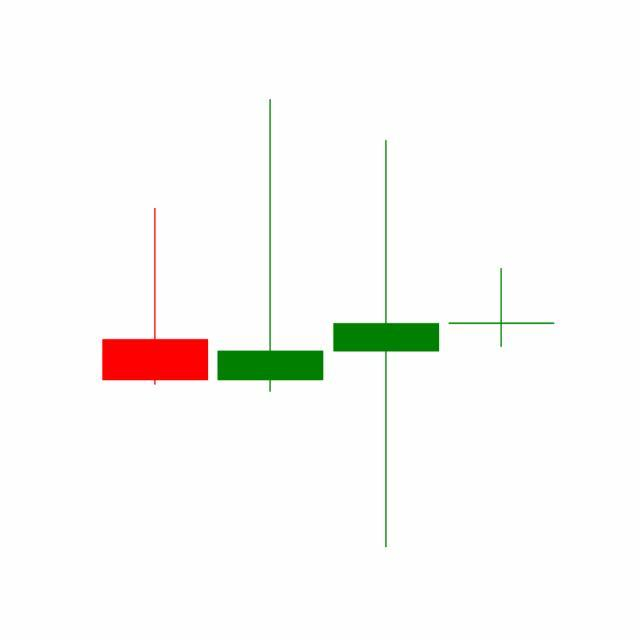Gravestone Doji: (444, 267, 560, 349)
